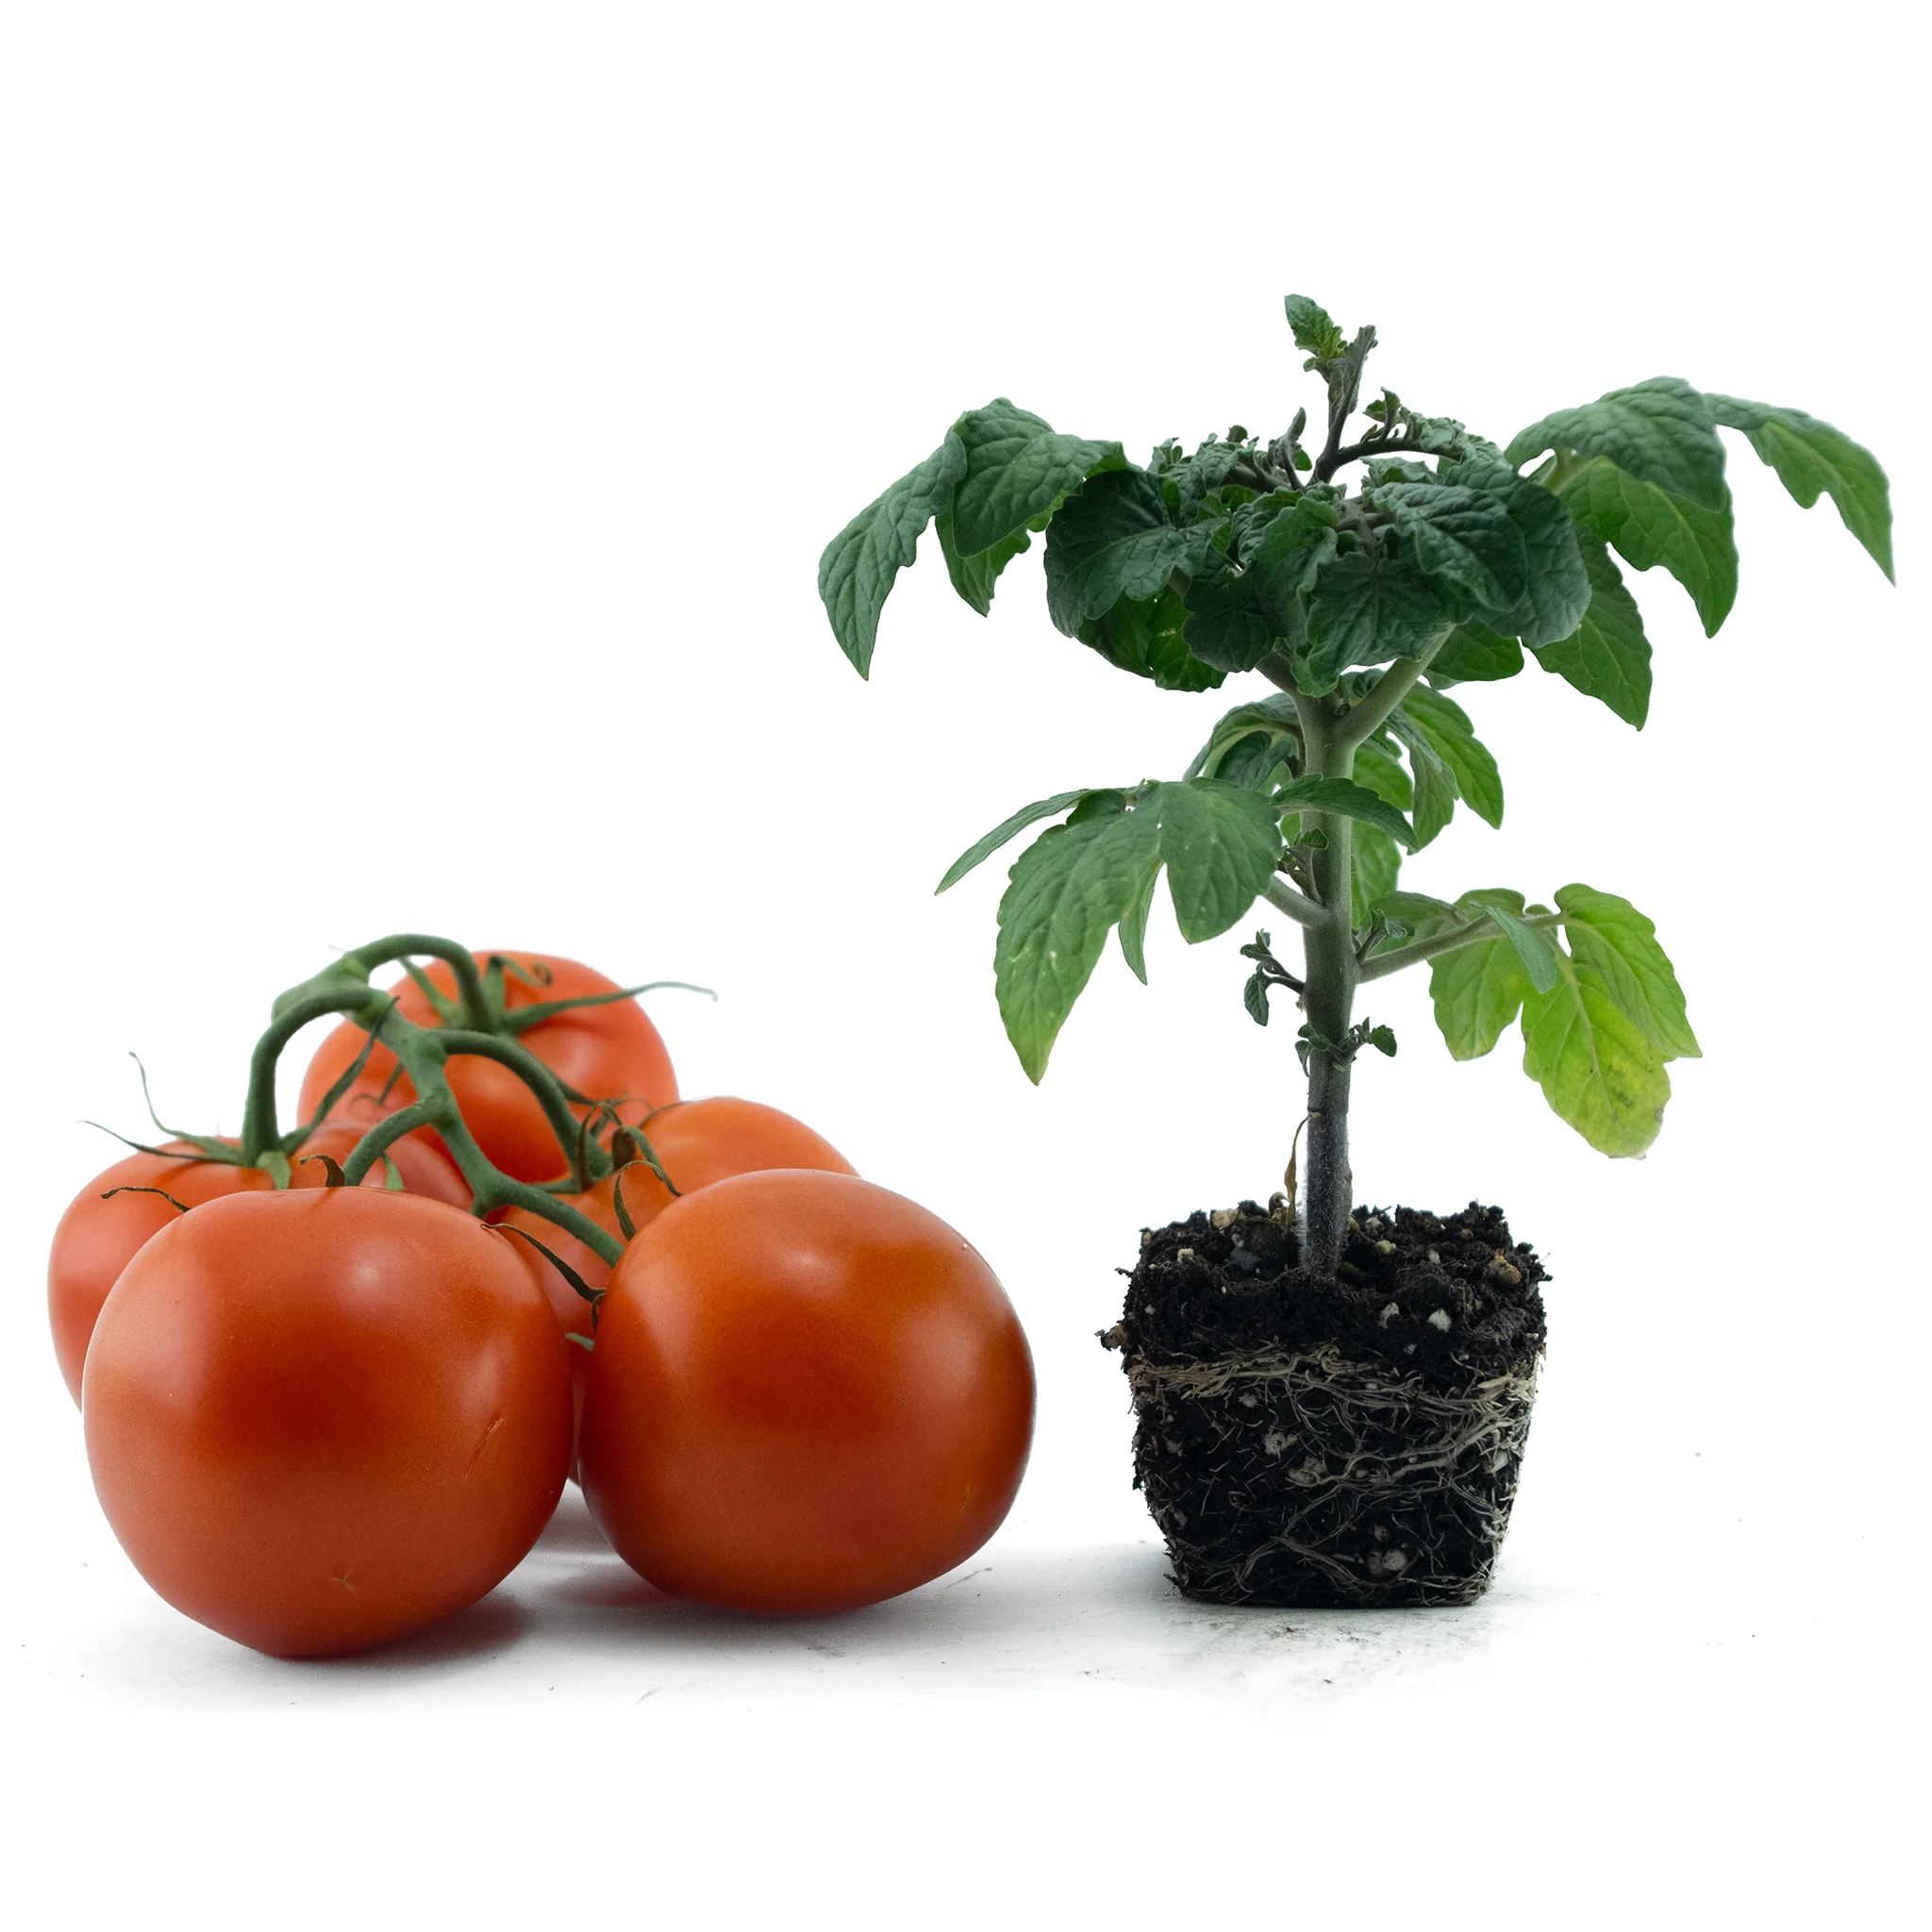tomato: (600, 1171, 1063, 1615)
